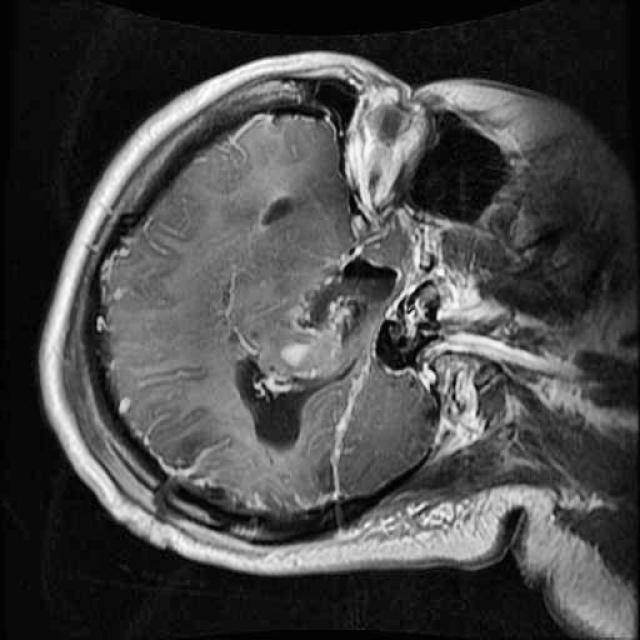Non-Tumor: (234, 351, 365, 452)
